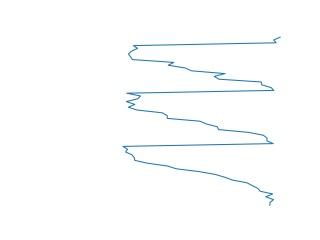distributaryMouthBar: (121, 36, 282, 207)
